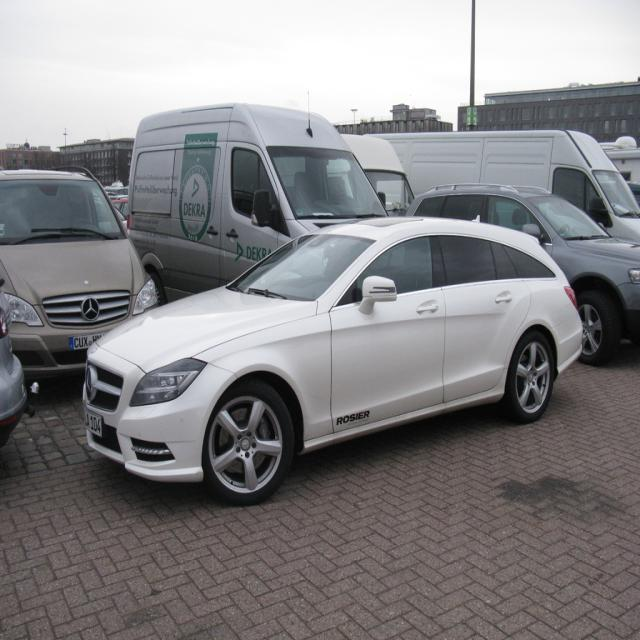car: (83, 209, 582, 500)
